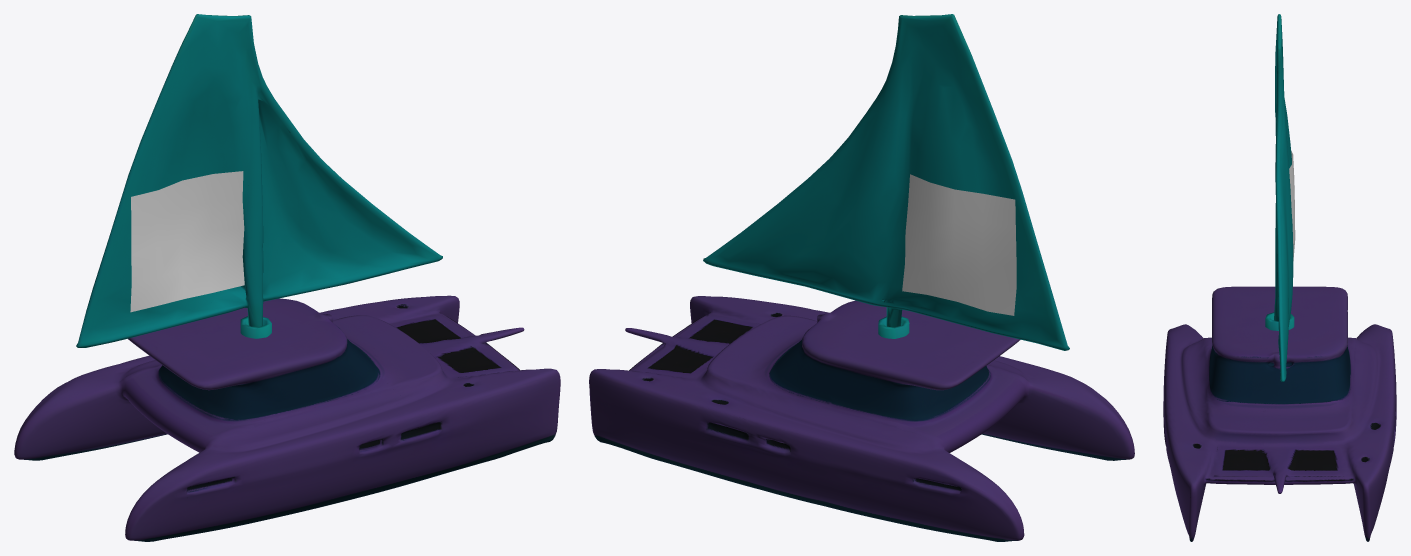
The model's file is TburdBoat.fbx.
The picture shows the model from 3 angles, left to right: view 1: azimuth 30°, elevation 25°; view 2: azimuth 150°, elevation 25°; view 3: azimuth 270°, elevation 25°; orthographic projection. The views are drawn at different scales.
Visible parts, largest first — view 1: FlyingBoat, Vela, Plane.001; view 2: FlyingBoat, Vela, Plane.001; view 3: FlyingBoat, Vela, Plane.001.
Part boxes in pixels (bbox=[...]): FlyingBoat: bbox=[14, 295, 560, 541]; Vela: bbox=[76, 14, 442, 347]; Plane.001: bbox=[130, 171, 244, 312]; FlyingBoat: bbox=[589, 296, 1134, 541]; Vela: bbox=[703, 14, 1069, 350]; Plane.001: bbox=[902, 174, 1016, 315]; FlyingBoat: bbox=[1163, 286, 1396, 541]; Vela: bbox=[1265, 14, 1294, 381]; Plane.001: bbox=[1289, 151, 1295, 260].
Bounding box in the file's own units: 96.47 × 95.04 × 49.7.
Materials: 3 (2 with a texture image).
